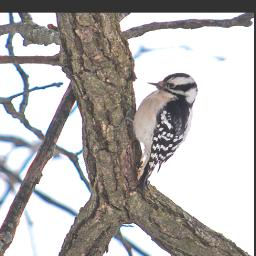Woodpecker: (116, 73, 198, 190)
